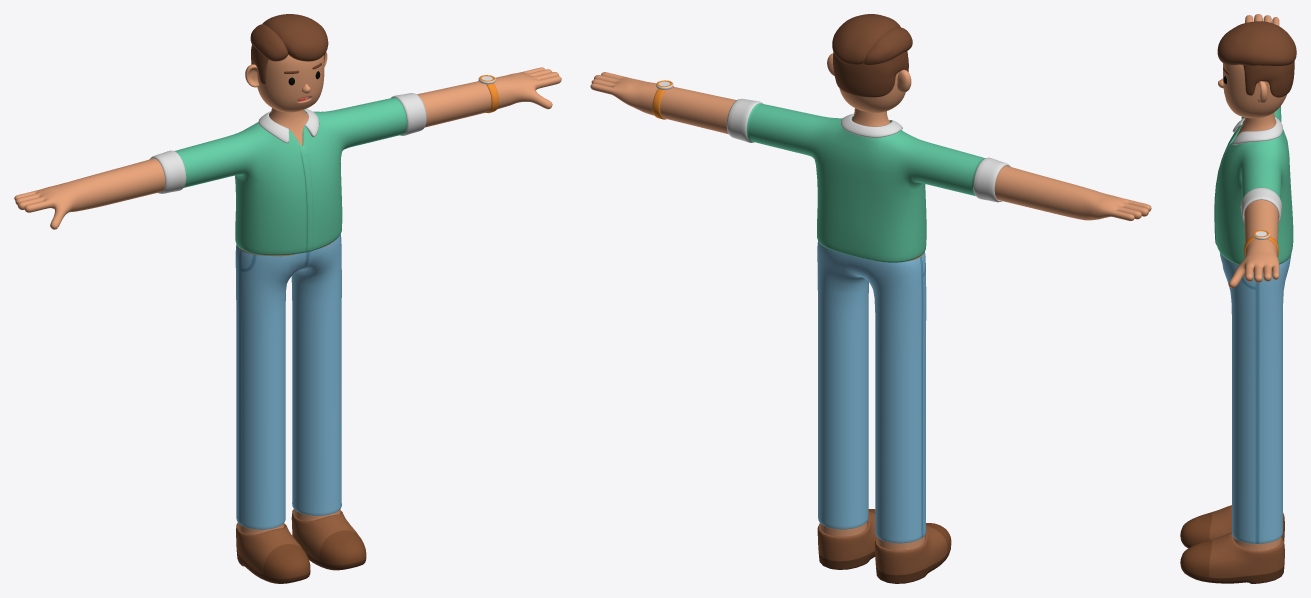
File: BOY 5.fbx
The picture shows the model from 3 angles, left to right: view 1: azimuth 30°, elevation 25°; view 2: azimuth 150°, elevation 25°; view 3: azimuth 270°, elevation 25°; orthographic projection. The views are drawn at different scales.
Parts seen in each view (by area): view 1: BOY 5_PANTS, BOY 5_SHIRT, BOY_BODY.005, BOY 5_HAIR, BOY_5_SHOES.R, BOY_5_SHOES.L; view 2: BOY 5_PANTS, BOY 5_SHIRT, BOY_BODY.005, BOY 5_HAIR, BOY_5_SHOES.R, BOY_5_SHOES.L; view 3: BOY 5_PANTS, BOY 5_SHIRT, BOY_BODY.005, BOY 5_HAIR, BOY_5_SHOES.L, BOY_5_SHOES.R, BOY 5_WATCH.
Part boxes in pixels (<box>): BOY 5_PANTS: <box>235,235,341,529</box>; BOY 5_SHIRT: <box>149,93,426,255</box>; BOY_BODY.005: <box>14,52,561,534</box>; BOY 5_HAIR: <box>250,14,328,84</box>; BOY_5_SHOES.R: <box>236,523,310,583</box>; BOY_5_SHOES.L: <box>291,509,366,570</box>; BOY 5_PANTS: <box>817,241,926,543</box>; BOY 5_SHIRT: <box>726,98,1010,262</box>; BOY_BODY.005: <box>590,51,1151,550</box>; BOY 5_HAIR: <box>832,14,912,97</box>; BOY_5_SHOES.R: <box>875,523,951,583</box>; BOY_5_SHOES.L: <box>817,509,876,569</box>; BOY 5_PANTS: <box>1219,252,1291,543</box>; BOY 5_SHIRT: <box>1214,106,1293,265</box>; BOY_BODY.005: <box>1218,14,1286,551</box>; BOY 5_HAIR: <box>1217,21,1296,97</box>; BOY_5_SHOES.L: <box>1180,532,1284,583</box>; BOY_5_SHOES.R: <box>1180,505,1284,548</box>; BOY 5_WATCH: <box>1244,230,1278,256</box>.
Size of the model in its own units: 205 by 193 by 38.05.
10 materials, 7 textured.
